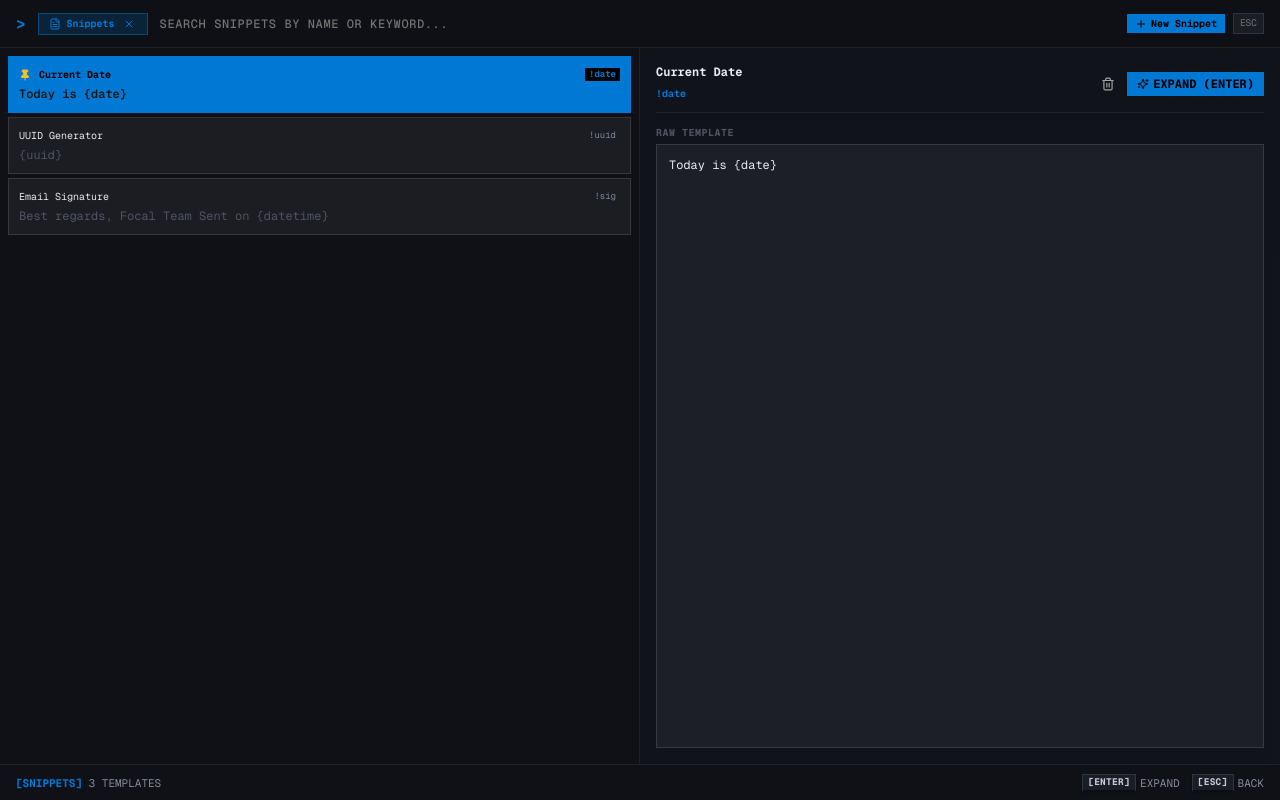
Test: Milestone 4: Clipboard & Snippets UI › renders snippets, displays keywords, and creates new snippet
Open creation dialog
Step 1. Click the button "New Snippet" → (1176, 24), box [1127,14,1225,33]
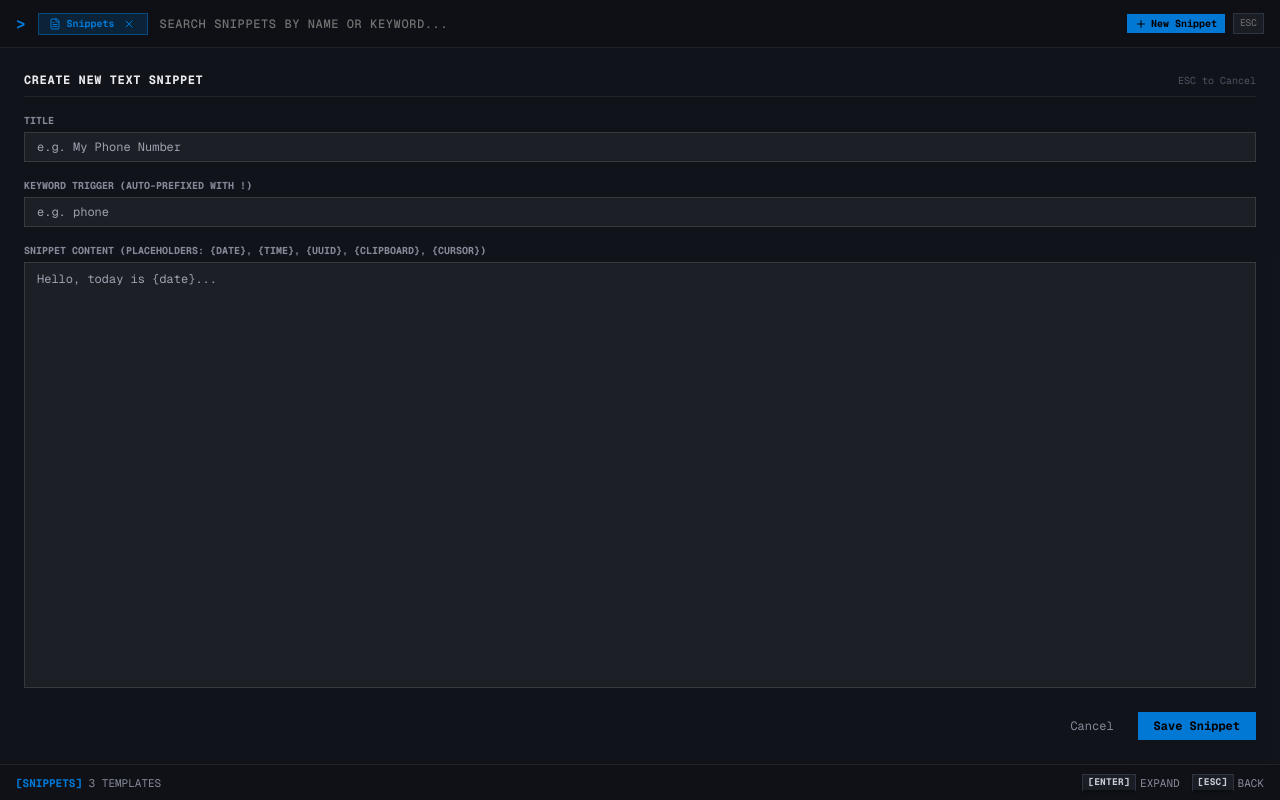
Now the heading "Create New Text Snippet" is shown, box [24,72,203,88]
Step 2. Type "Support Email" into the field with placeholder "e.g. My Phone Number" → (640, 147), box [24,132,1256,162]
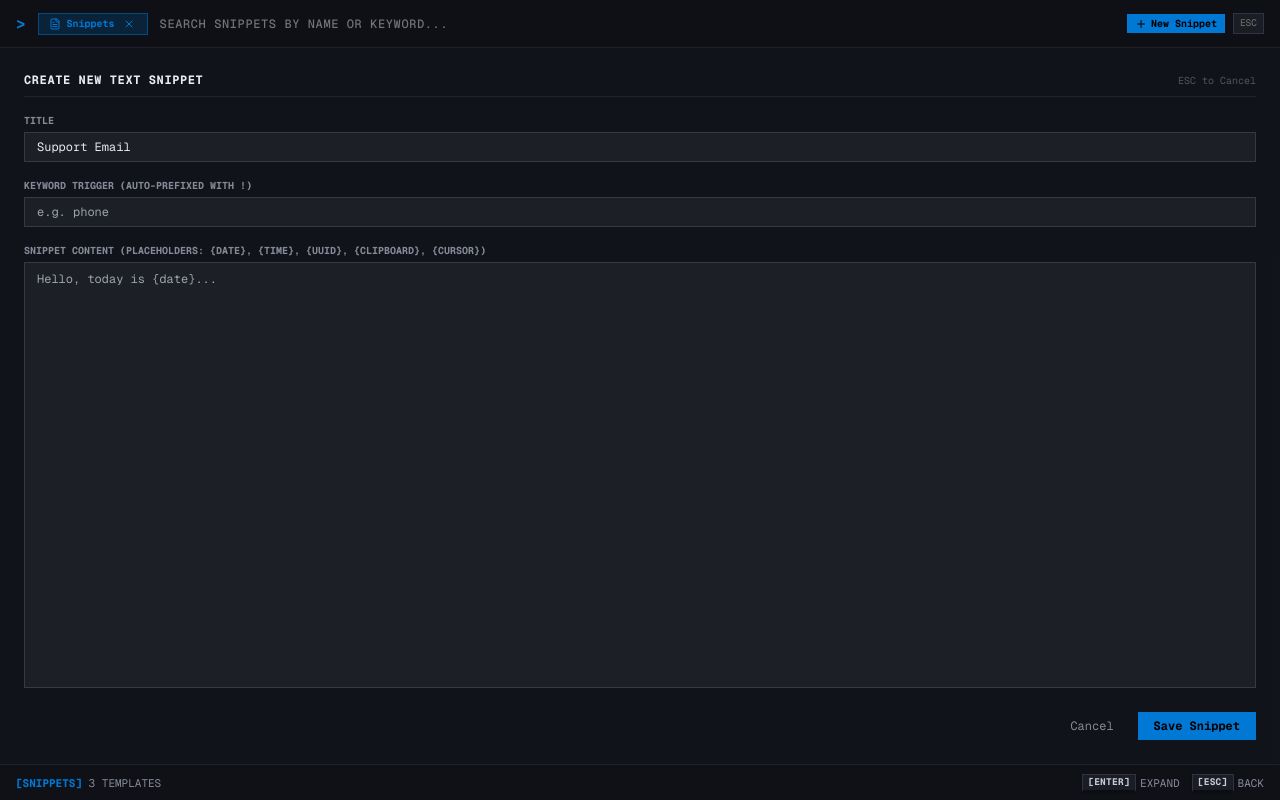
Step 3. Type "support" into the field with placeholder "e.g. phone" → (640, 212), box [24,197,1256,227]
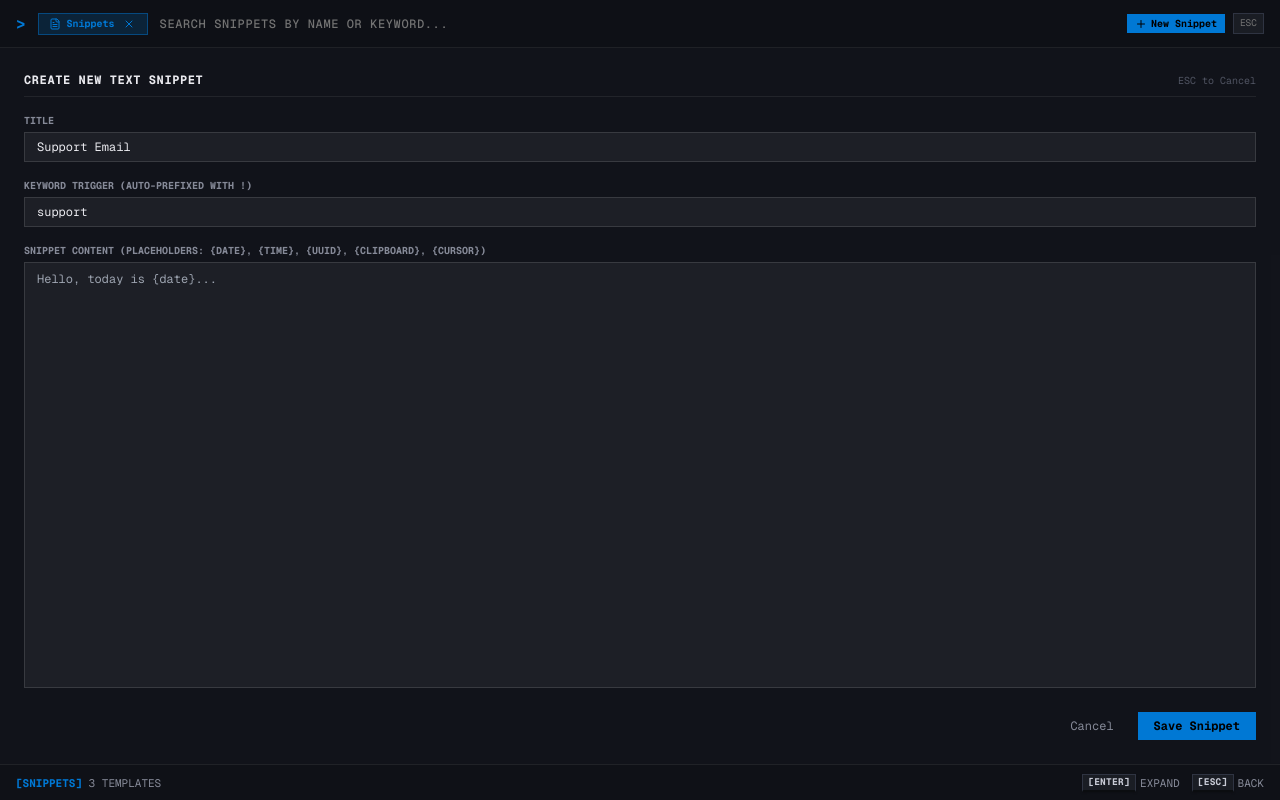
Step 4. Type "support@example.com" into the text box with placeholder "Hello, today is {date}..." → (640, 475), box [24,262,1256,688]
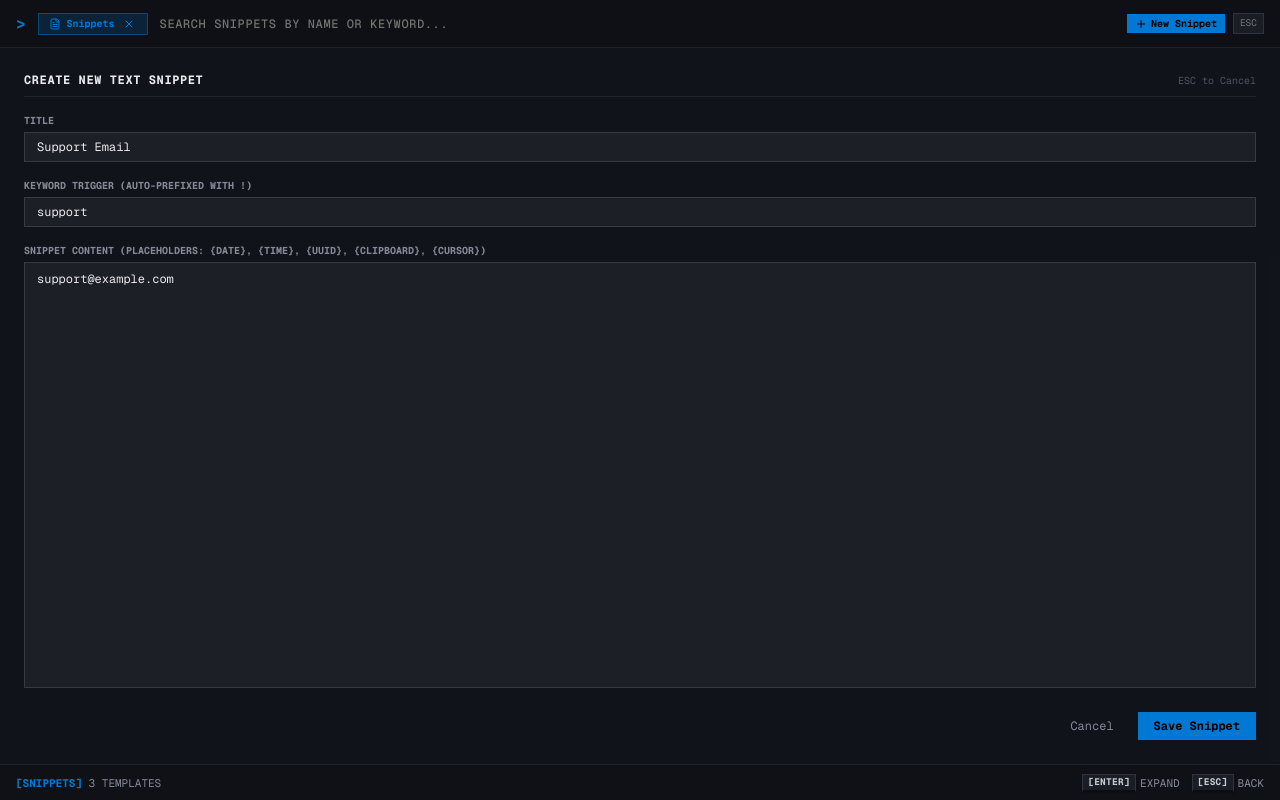
Step 5. Click the button "Save Snippet" → (1197, 726), box [1138,712,1256,740]
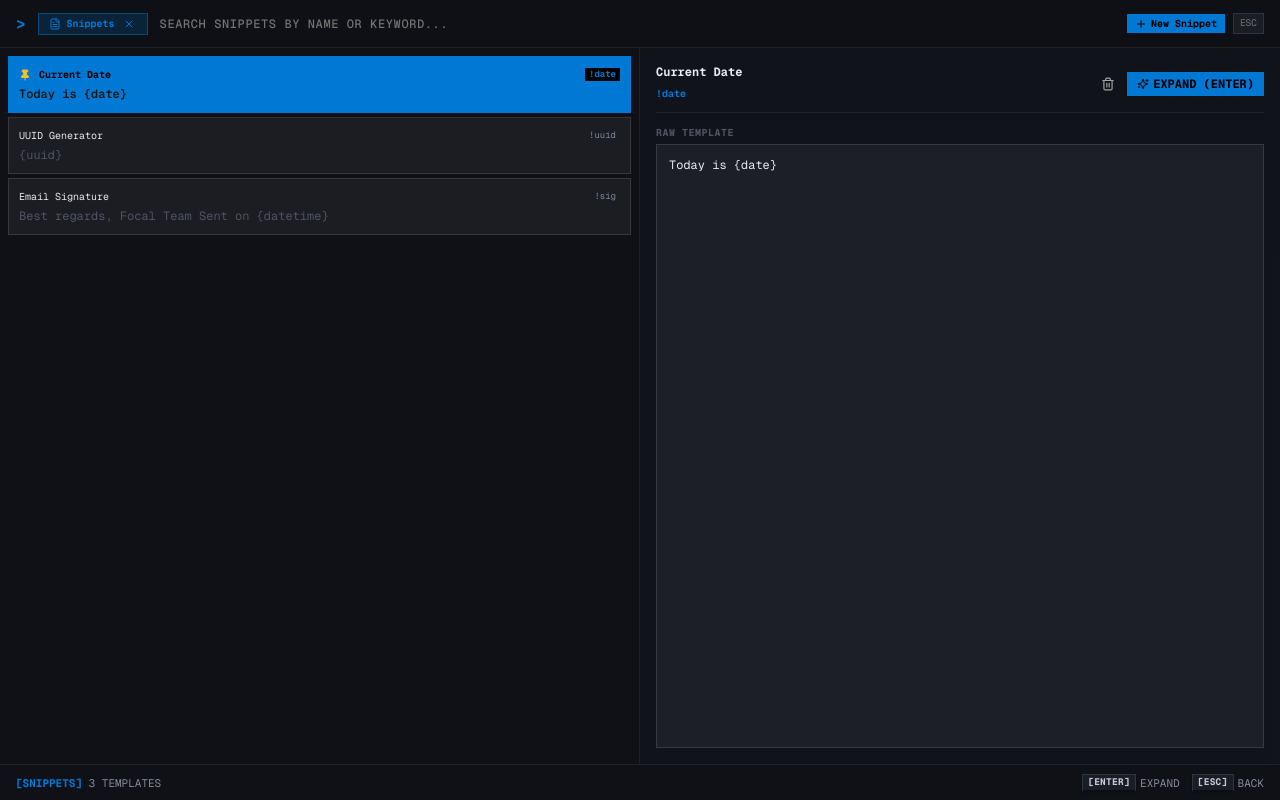
Now the heading "Create New Text Snippet" is gone
